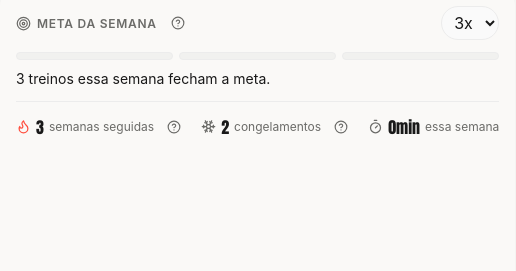
Test: MetaSemana › explica os conceitos quando alguem pergunta › as semanas seguidas: contam por semana, e descanso nao quebra
The width and height of the screenshot is (516, 271).
What coordinates should you click on to do the following:
click the button named "O que sao semanas seguidas?"
I would click on:
 (174, 127)
Its box is x1=161 y1=114 x2=187 y2=140.
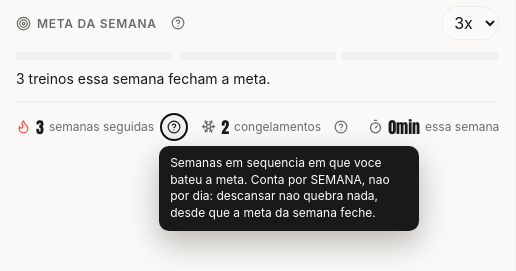
Result: the tooltip shows "descansar nao quebra nada" at x1=170 y1=155 x2=390 y2=220
